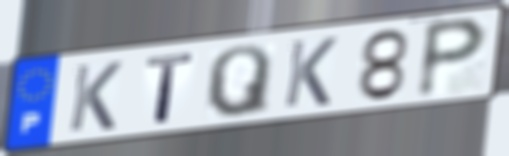8: (357, 27, 411, 102)
K: (281, 35, 341, 111), (66, 59, 126, 135)
P: (413, 14, 492, 101)
Q: (203, 43, 274, 120)
T: (142, 50, 198, 127)
